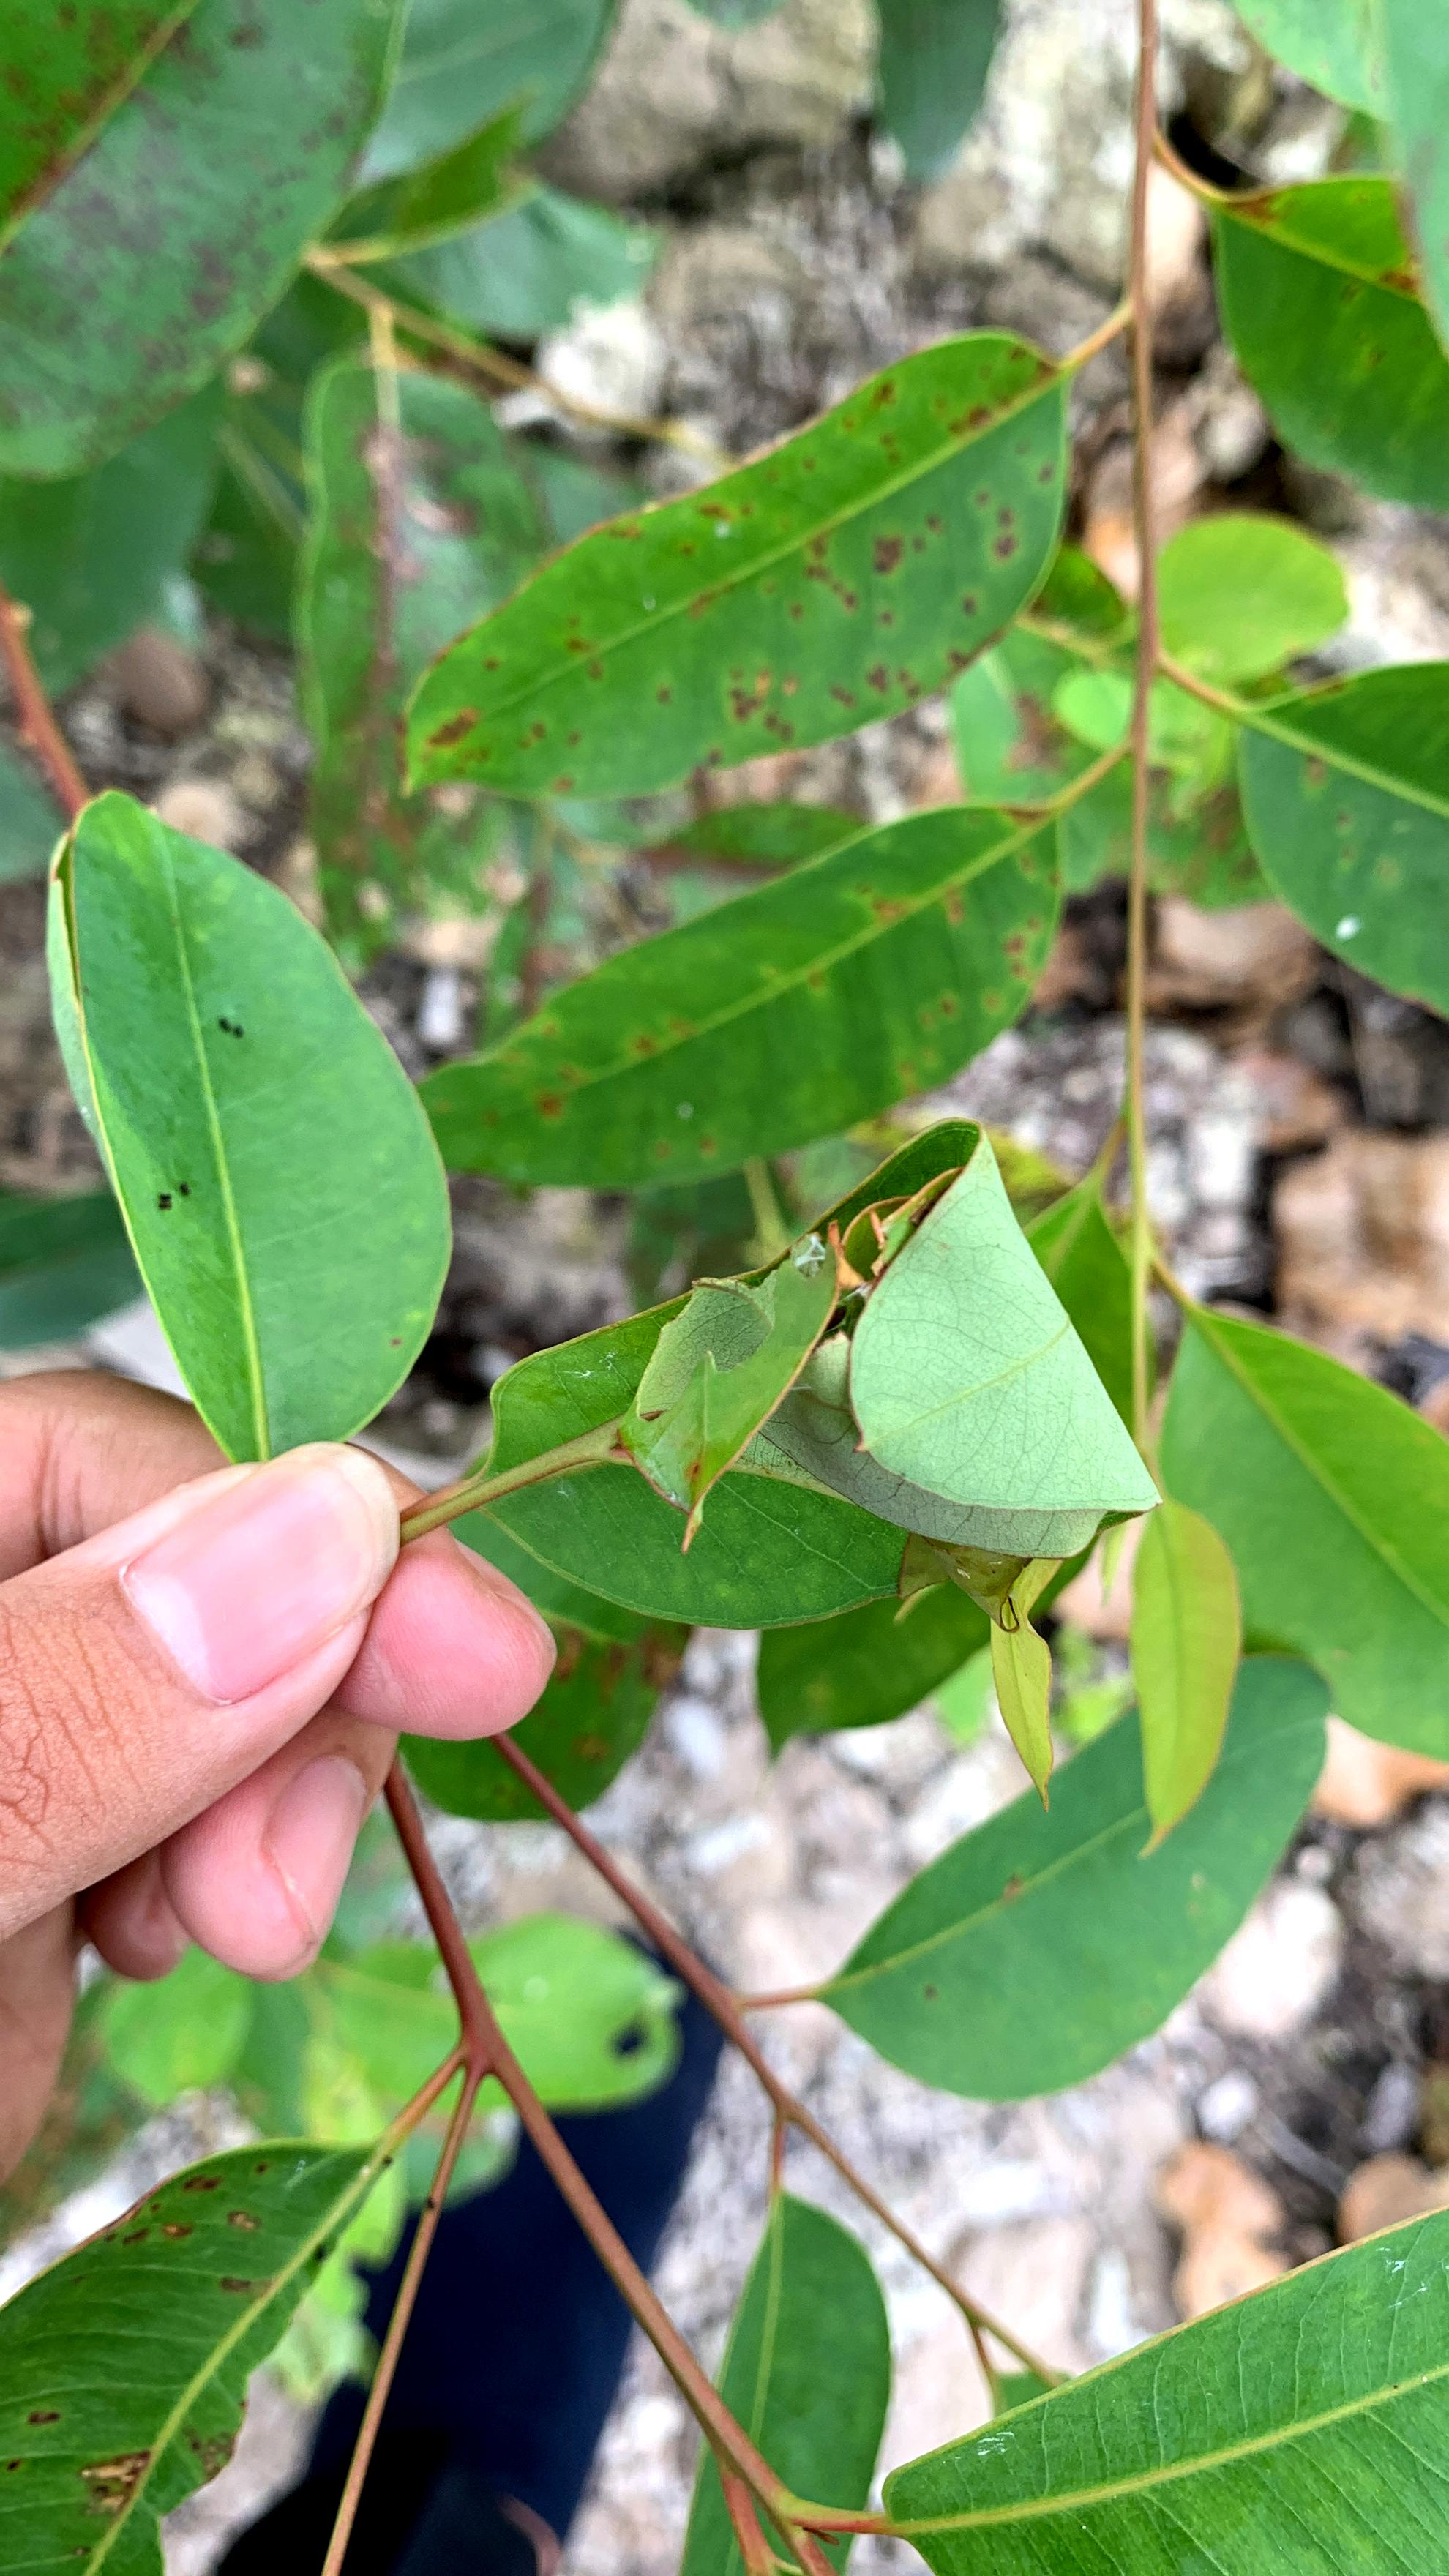Leaf Roller - Leaf: (667, 1123, 1146, 1541)
